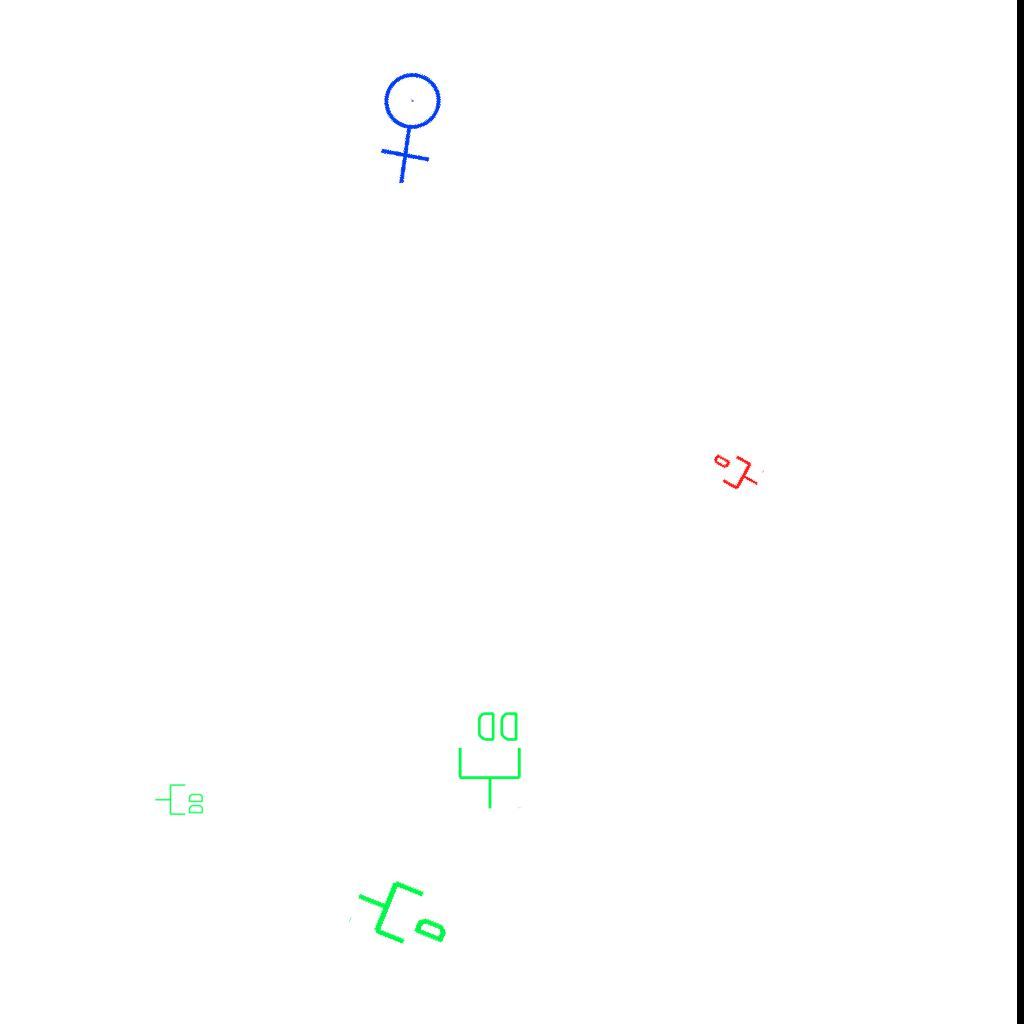Datenanschluss_einfach: (344, 861, 463, 963), (705, 445, 767, 499)
Datenanschluss_zweifach: (456, 708, 525, 811), (154, 783, 205, 817)
Elektroanschluss_allgemein_230V_Geraeteanschlussdose_230V: (345, 54, 482, 190)
